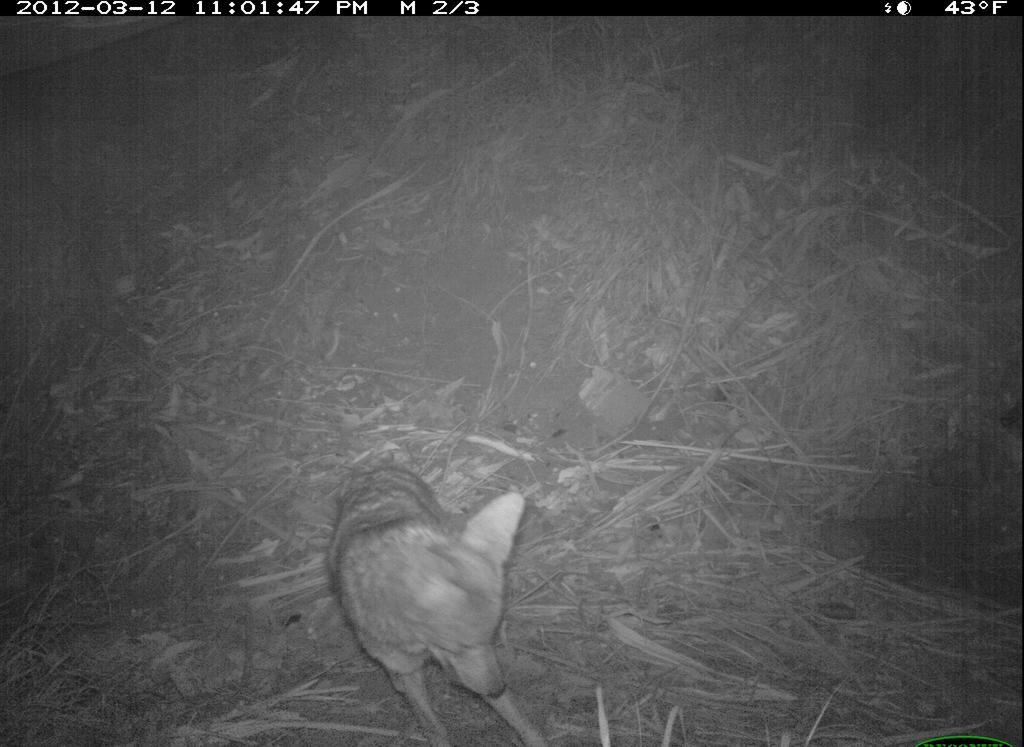coyote: (329, 463, 536, 728)
